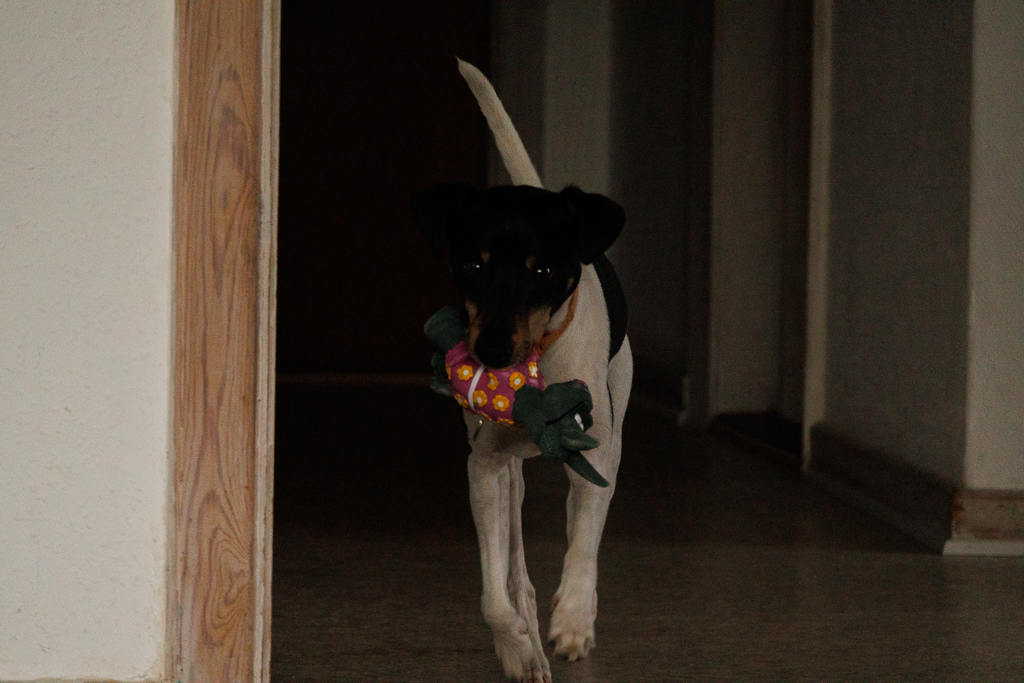Dog: (389, 48, 655, 683)
Humanoid: (411, 280, 618, 496)
